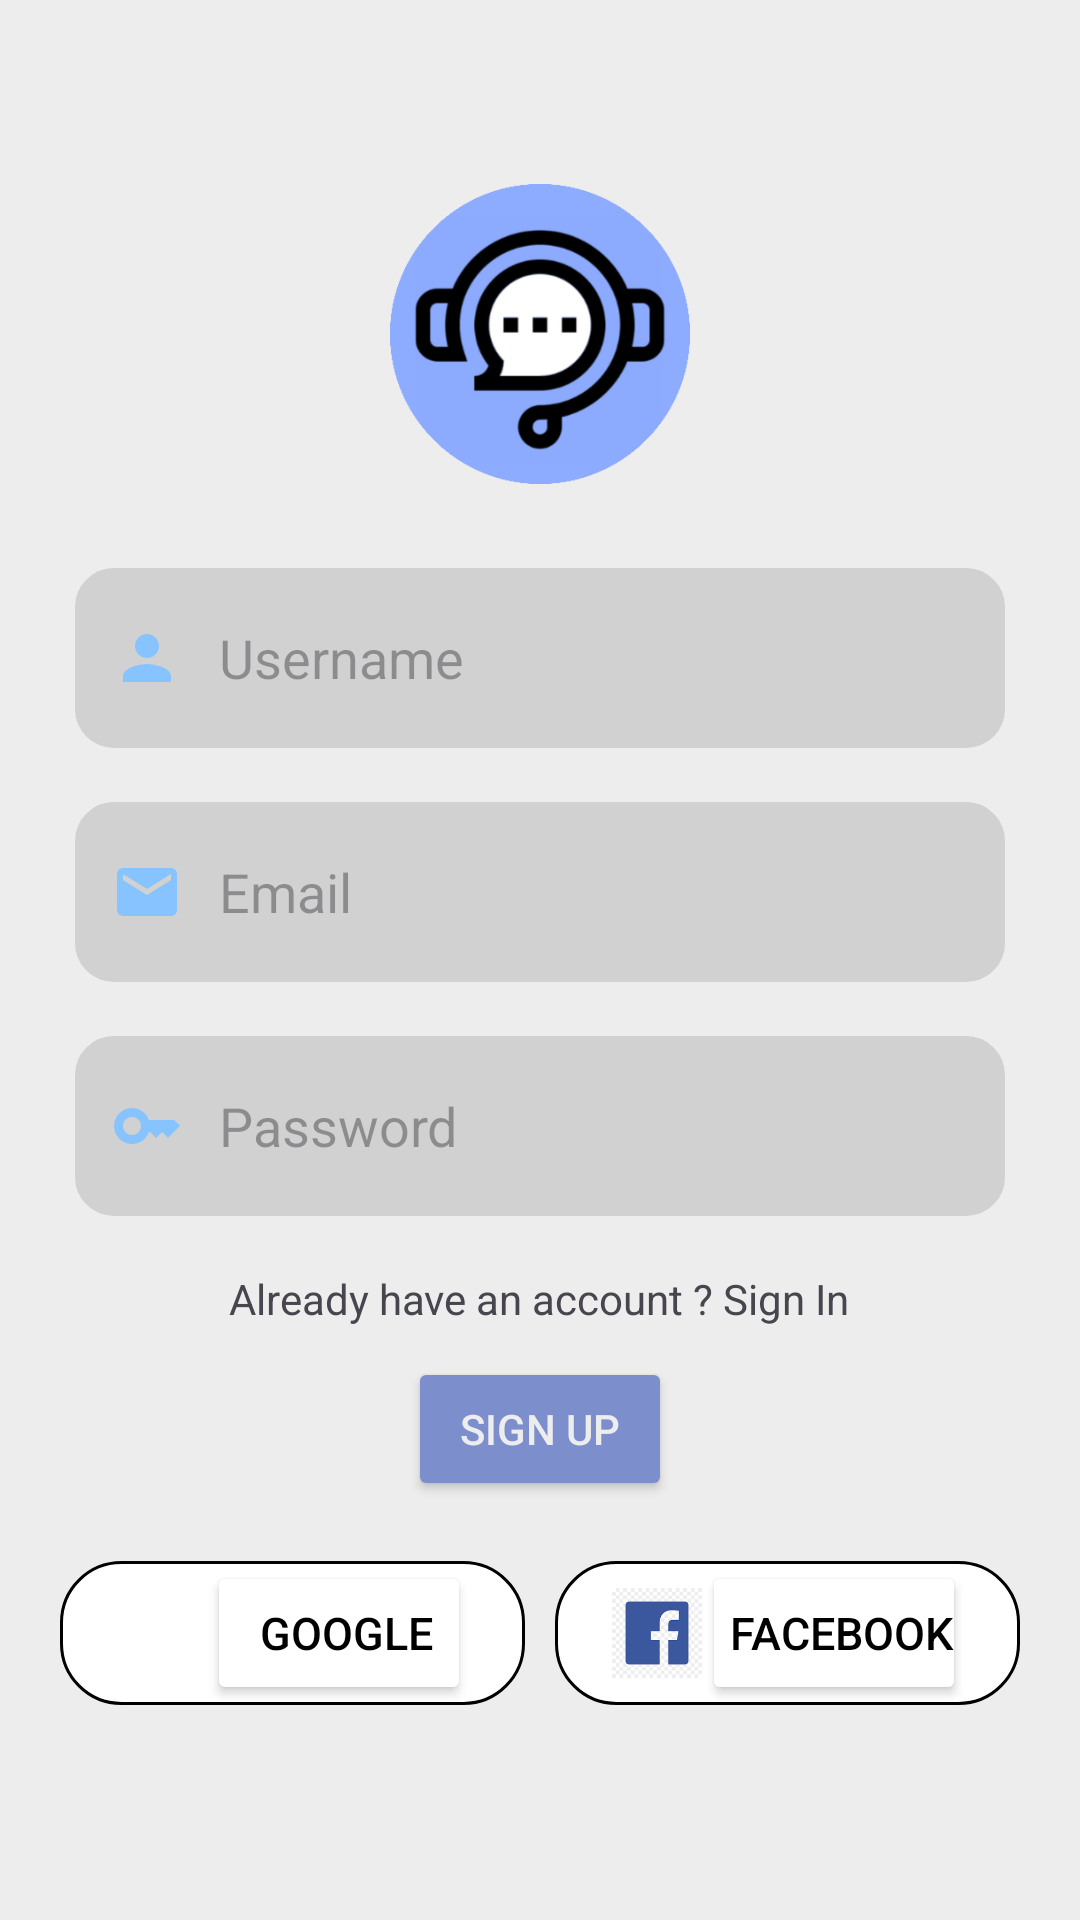

Icons on this 1080*1920 Android screen, each with its box as rect(x1, y1, x2, y2):
app icon: rect(390, 184, 690, 484)
